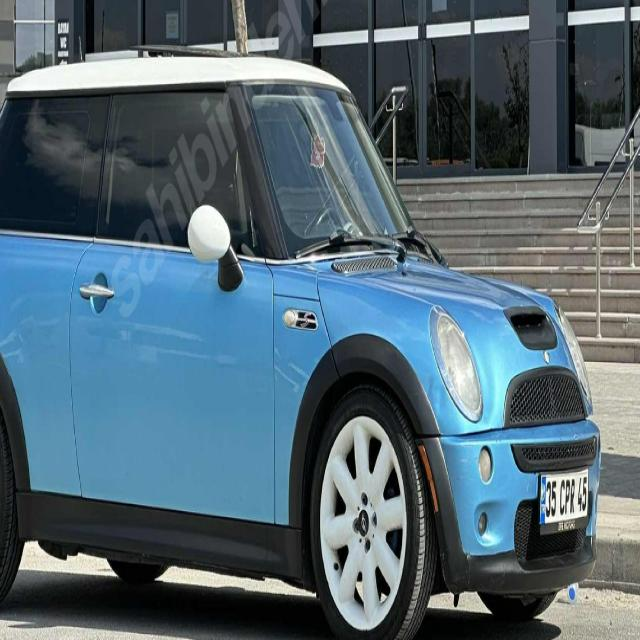mini: (537, 348, 556, 367)
